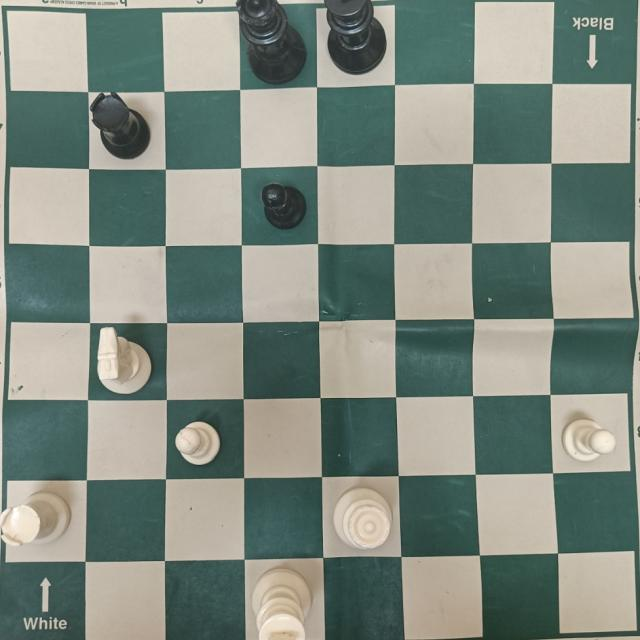black-king: (326, 0, 385, 76)
black-pawn: (266, 184, 307, 230)
black-queen: (235, 0, 306, 82)
black-rook: (93, 87, 152, 158)
white-king: (252, 567, 313, 640)
white-knight: (97, 329, 151, 394)
white-pawn: (561, 415, 616, 461), (175, 419, 219, 467)
white-queen: (333, 488, 393, 552)
white-rook: (0, 492, 71, 547)
